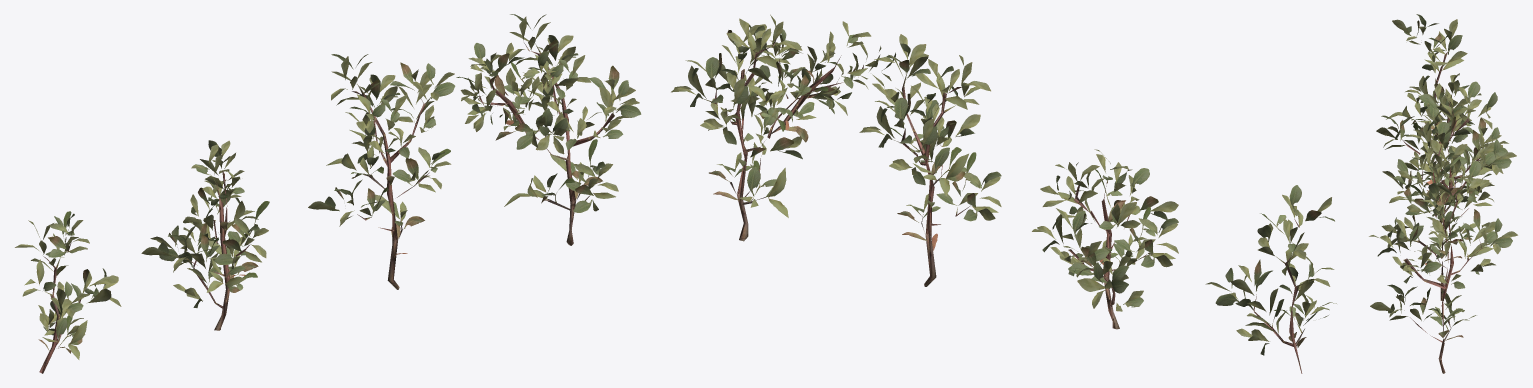
Rendered from shrub.glb.
3 views of the same model, side by side, from view 1: azimuth 30°, elevation 25°; view 2: azimuth 150°, elevation 25°; view 3: azimuth 270°, elevation 25° (orthographic). The views are drawn at different scales.
Parts seen in each view (by area): view 1: shrub_04; view 2: shrub_04; view 3: shrub_04.
Boxes of the visible parts, x1,y1,x2,y2 form: shrub_04: (15,14,641,373); shrub_04: (671,14,1336,373); shrub_04: (1369,14,1517,373).
Bounding box in the file's own units: 0.5837 × 0.2192 × 0.1461.
Materials: 1 (1 with a texture image).
